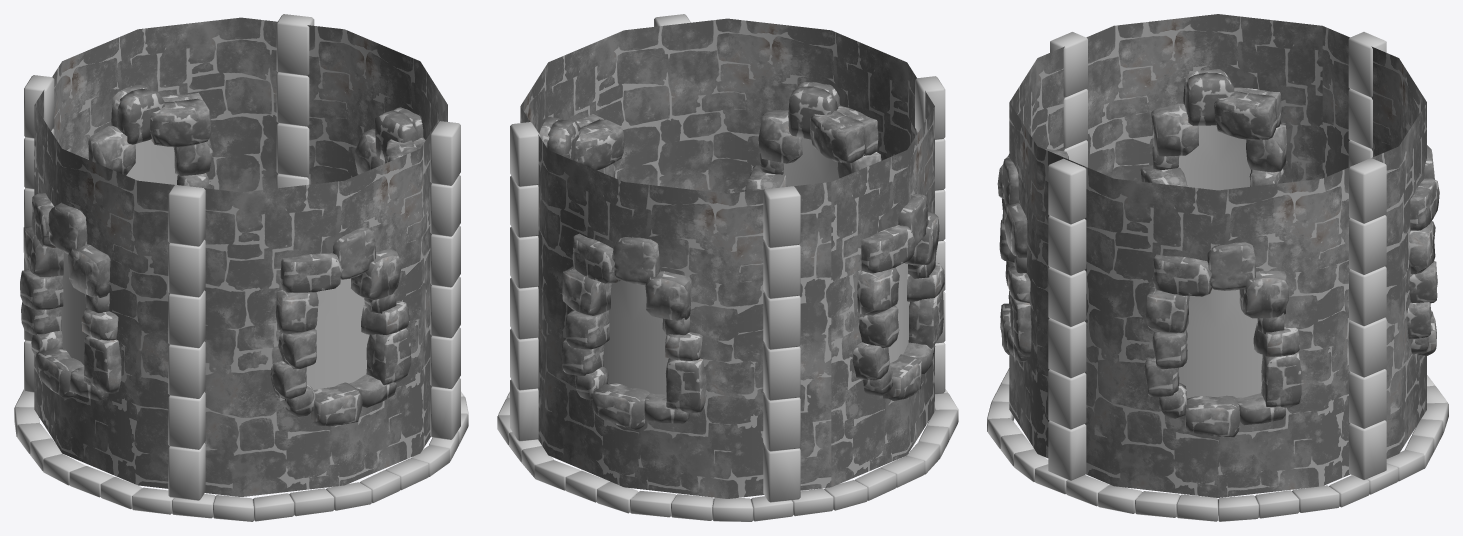
Rendered from Tower_Wall_Mid_Window_02.fbx.
3 renders of one model, left to right at view 1: azimuth 30°, elevation 25°; view 2: azimuth 150°, elevation 25°; view 3: azimuth 270°, elevation 25°, orthographic.
Parts seen in each view (by area): view 1: Tower_Wall_Mid_01.002, rock_1.111; view 2: Tower_Wall_Mid_01.002, rock_1.111; view 3: Tower_Wall_Mid_01.002, rock_1.111.
Part boxes in pixels (bbox=[...]): Tower_Wall_Mid_01.002: bbox=[14, 14, 468, 521]; rock_1.111: bbox=[20, 84, 425, 426]; Tower_Wall_Mid_01.002: bbox=[497, 14, 958, 521]; rock_1.111: bbox=[539, 82, 944, 430]; Tower_Wall_Mid_01.002: bbox=[987, 14, 1448, 521]; rock_1.111: bbox=[997, 69, 1439, 437].
Bounding box in the file's own units: 6.8 × 5.25 × 6.81.
